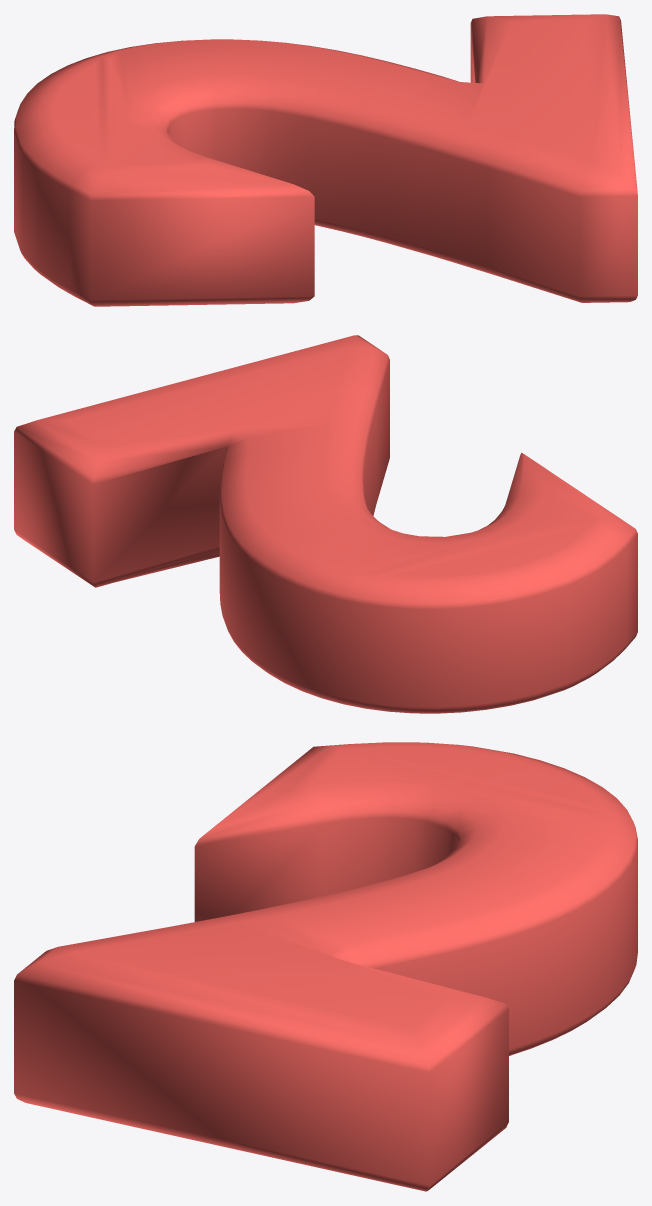
File: ToyObject_211.fbx
3 views of the same model, one above another, from view 1: azimuth 30°, elevation 25°; view 2: azimuth 150°, elevation 25°; view 3: azimuth 270°, elevation 25° (orthographic). The views are drawn at different scales.
Parts seen in each view (by area): view 1: Object.004; view 2: Object.004; view 3: Object.004.
Part boxes in pixels (left/top/right/bottom): Object.004: left=14, top=14, right=637, bottom=306; Object.004: left=14, top=335, right=637, bottom=713; Object.004: left=14, top=742, right=637, bottom=1191.
Size of the model in its own units: 0.1786 by 0.0384 by 0.1446.
